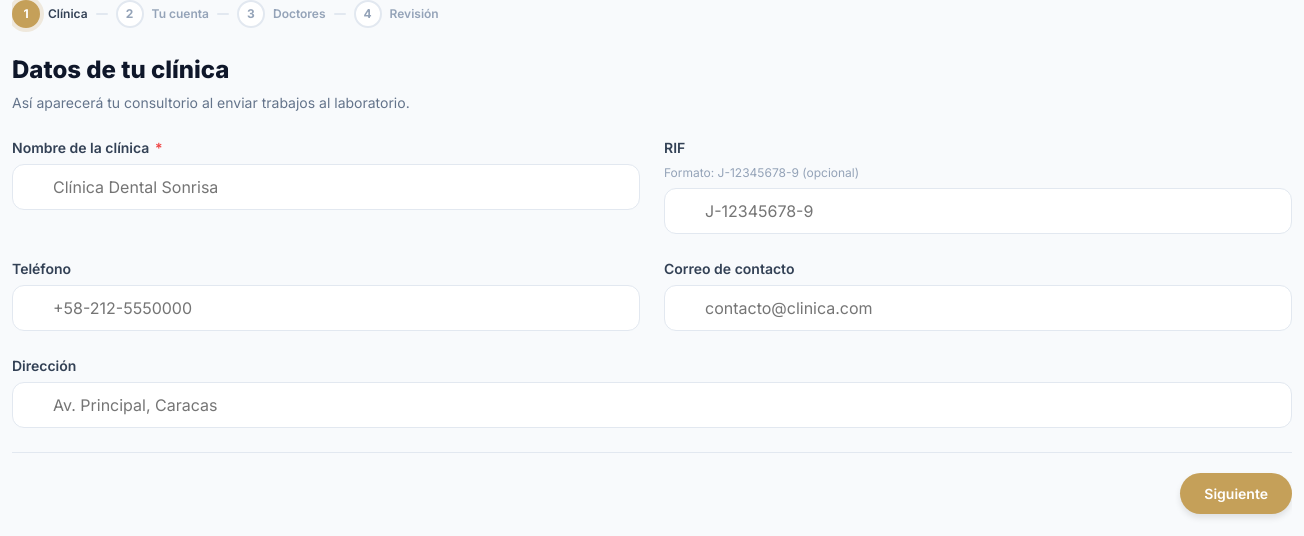
it: ClinicaFlow — wizard de 4 pasos con equipo › paso clínica exige nombre; con datos pasa al paso del dueño
The image size is (1304, 536).
Submit the form with test id "clinica-step"
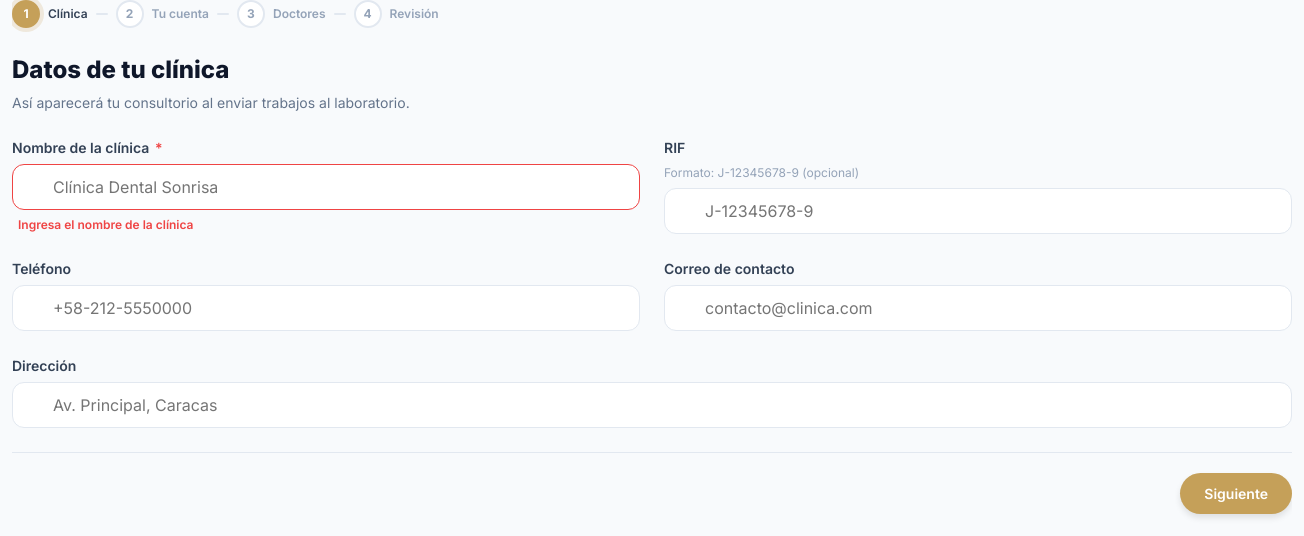
Expected: the text "Ingresa el nombre de la clínica" is shown, [18, 217, 194, 232]
Type "Clínica Sonrisa" into the field labelled "Nombre de la clínica *" at {"x": 326, "y": 187}, box [12, 164, 640, 210]
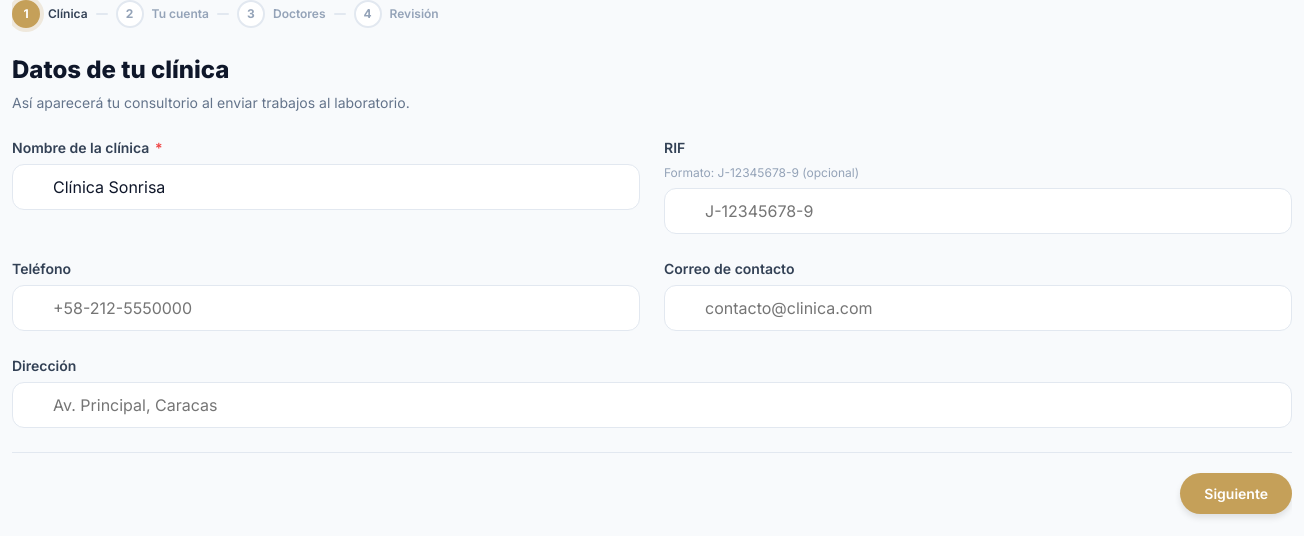
Submit the form with test id "clinica-step"
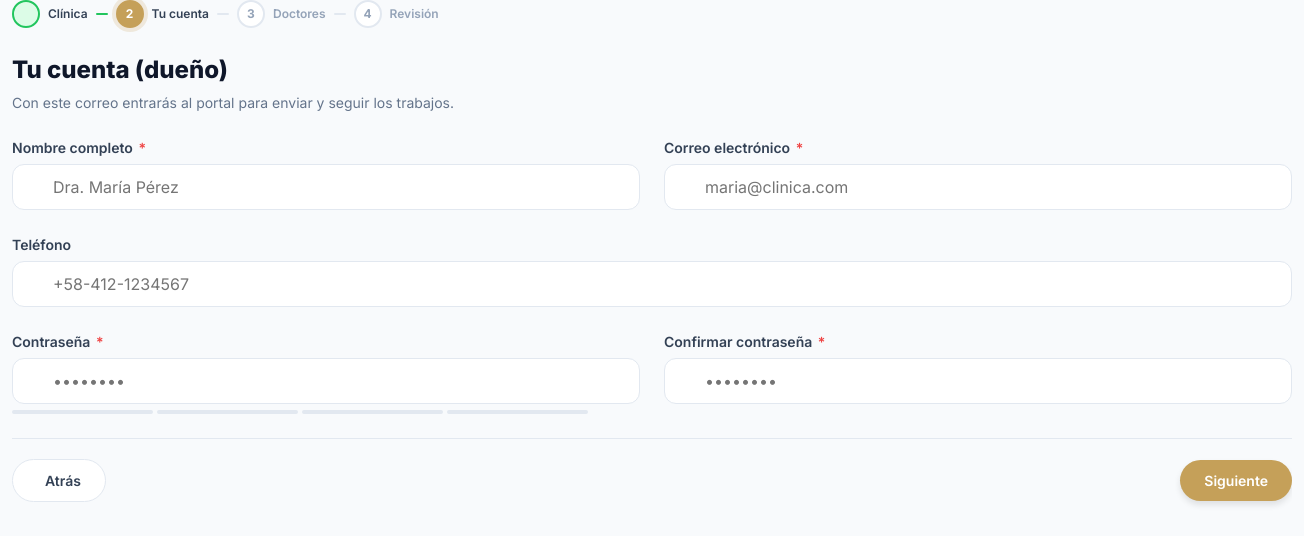
Expected: the form with test id "dueno-step" is shown
